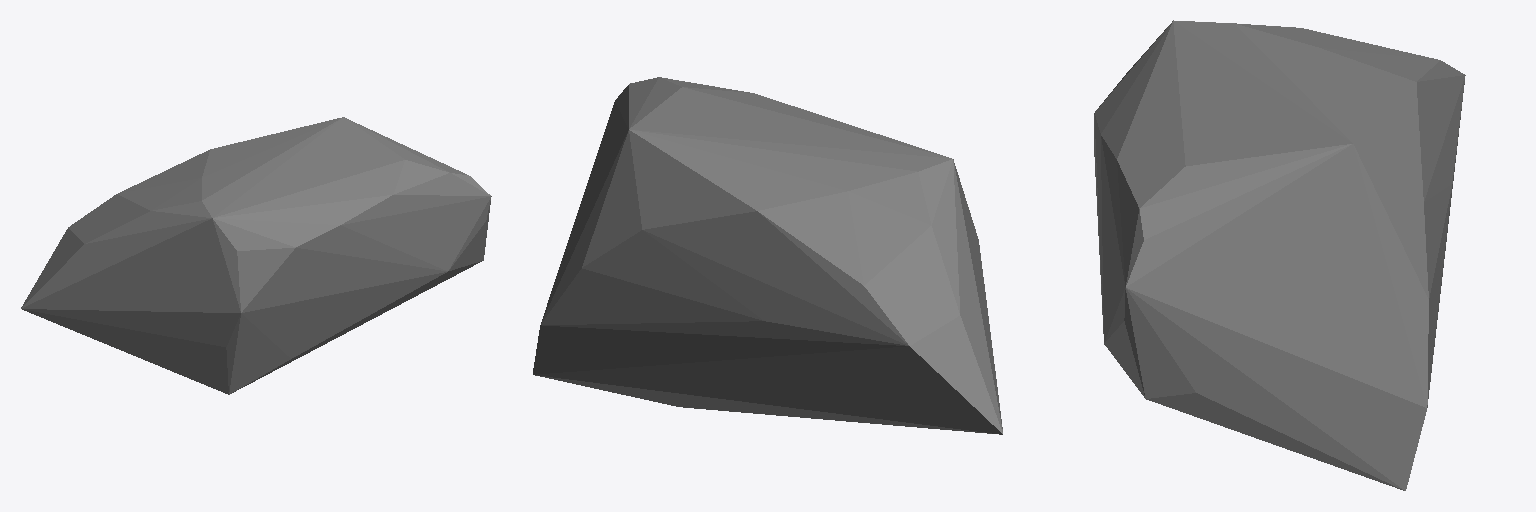
URDF robot description (20_642):
<?xml version="1.0"?>
<robot name="20_642">
  <link name="link">
    <contact>
      <lateral_friction value="0.6"/>
    </contact>
    <inertial>
      <mass value = "0.40929753189741463"/>
      <inertia ixx="0.00014200777569248782" ixy="-2.275023271260431e-05" ixz="9.46092509706675e-06" iyy="0.000295671672487063" iyz="-7.294984755542234e-06" izz="0.0003137672647829441" />
    </inertial>
    <visual name="visual">
      <geometry>
        <mesh filename="20_642.obj"/>
      </geometry>
      <material name="material">
        <color rgba="0.5367638379573122 0.5367638379573122 0.5367638379573122 1.0"/>
      </material>
    </visual>
    <collision name="collision">
      <geometry>
        <mesh filename="20_642.obj"/>
      </geometry>
    </collision>
  </link>
</robot>

--- Facts derived from the render (not from the file) ---
3 views of the same robot in one strip: view 1: azimuth 30°, elevation 25°; view 2: azimuth 150°, elevation 25°; view 3: azimuth 270°, elevation 25° (orthographic).
Robot: 20_642 — 1 links, 0 joints (none); root link link; default pose: all joints at 0.
Links seen in each view (by area): view 1: link; view 2: link; view 3: link.
Boxes of the visible links, bbox=[...] form: link: bbox=[21, 117, 491, 394]; link: bbox=[533, 77, 1002, 434]; link: bbox=[1094, 20, 1465, 490].
Bounding box of the posed robot: 0.1119 × 0.0573 × 0.0517 m (x, y, z).
Meshes: 1 distinct files referenced, 1 mesh visuals loaded (1 OBJ).
